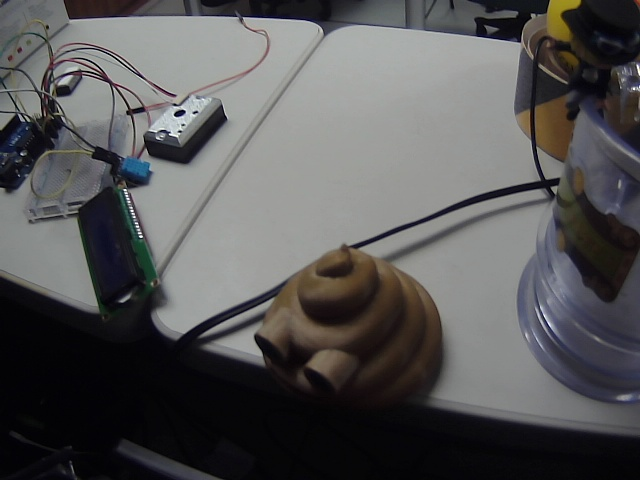shit: (251, 239, 453, 412)
